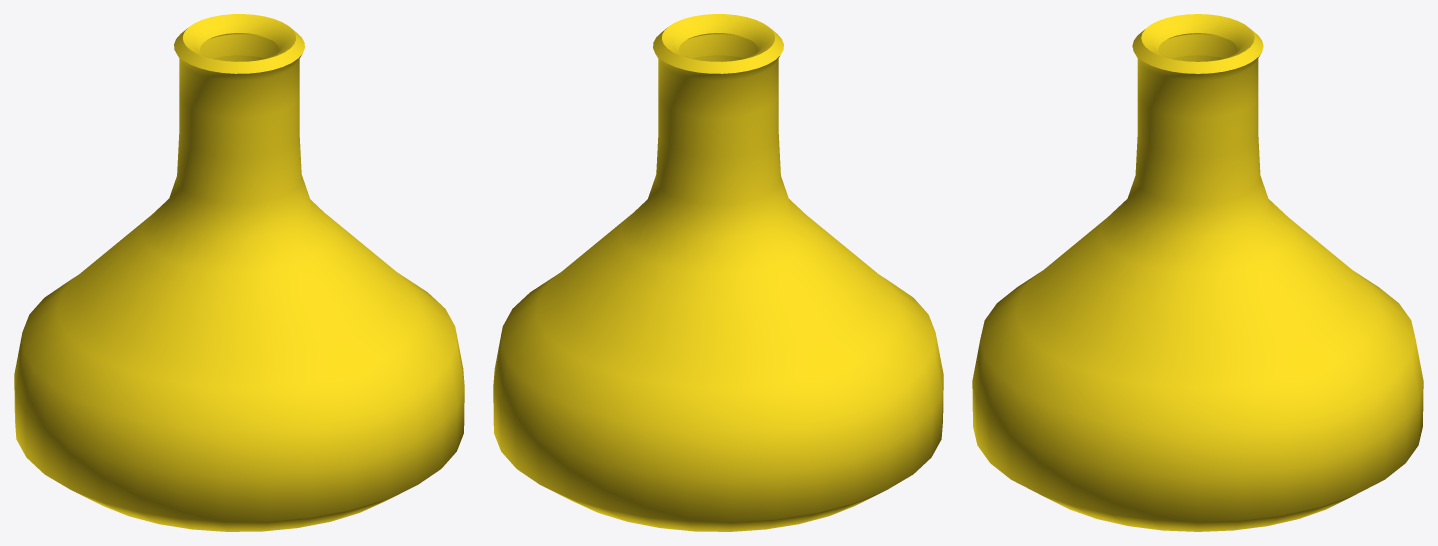
Rendered from static.glb.
3 renders of one model, left to right at view 1: azimuth 30°, elevation 25°; view 2: azimuth 150°, elevation 25°; view 3: azimuth 270°, elevation 25°, orthographic.
Parts seen in each view (by area): view 1: Lathe_3; view 2: Lathe_3; view 3: Lathe_3.
Boxes of the visible parts, x1,y1,x2,y2 form: Lathe_3: (14,14,464,531); Lathe_3: (493,14,943,531); Lathe_3: (972,14,1423,531).
Bounding box in the file's own units: 0.6938 × 0.7088 × 0.6938.
2 materials, 2 textured.
